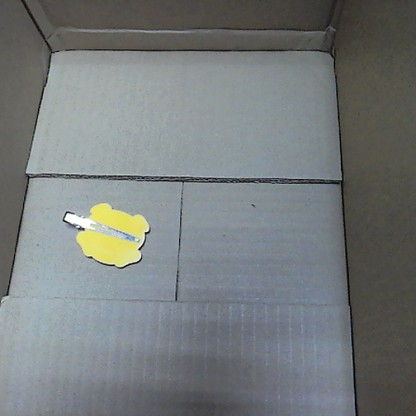dogclip: (61, 198, 150, 269)
